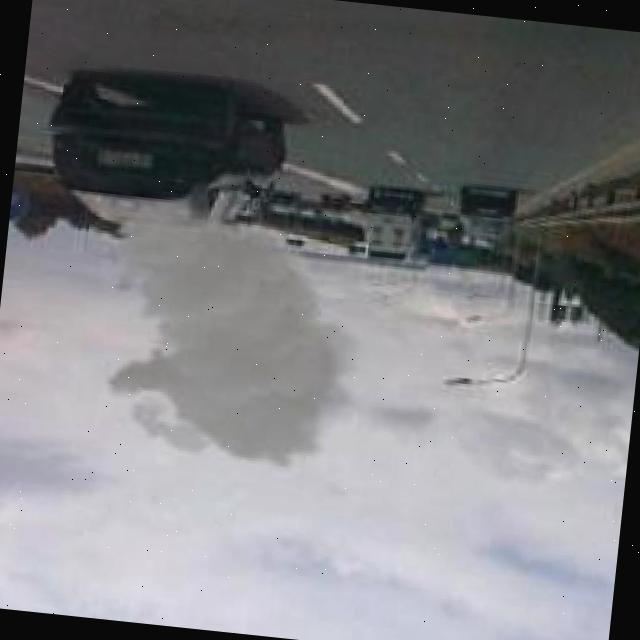smoke: (82, 194, 386, 478)
